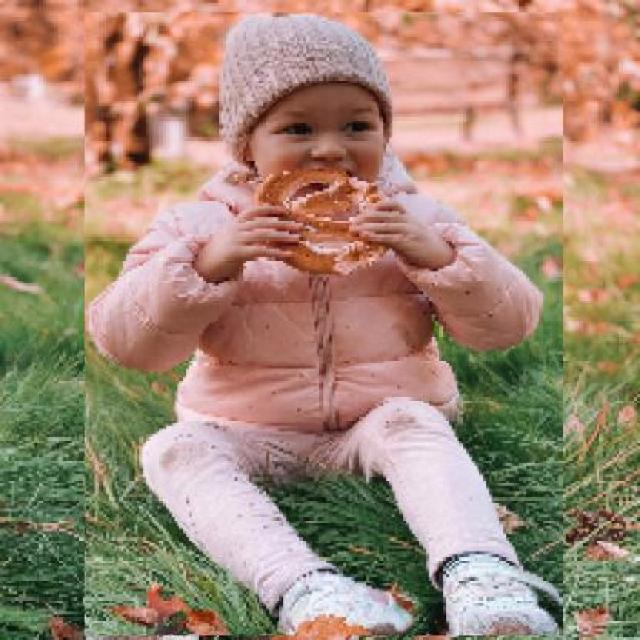child: (83, 12, 563, 637)
